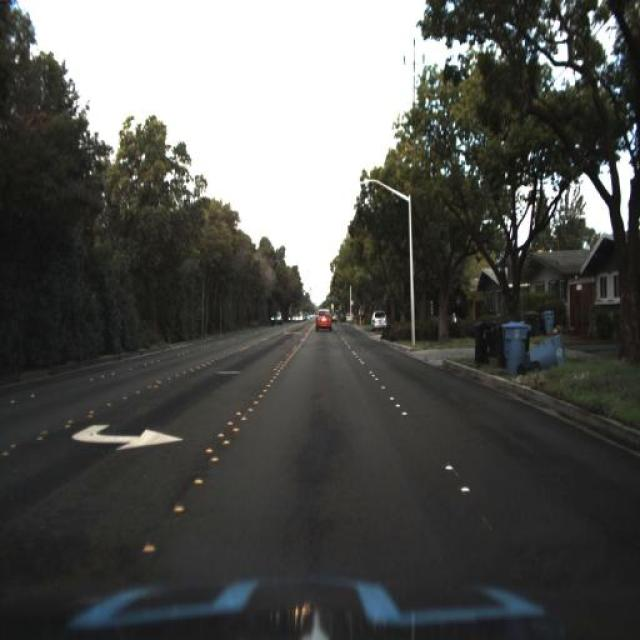car: (310, 300, 336, 336), (368, 303, 392, 337)
